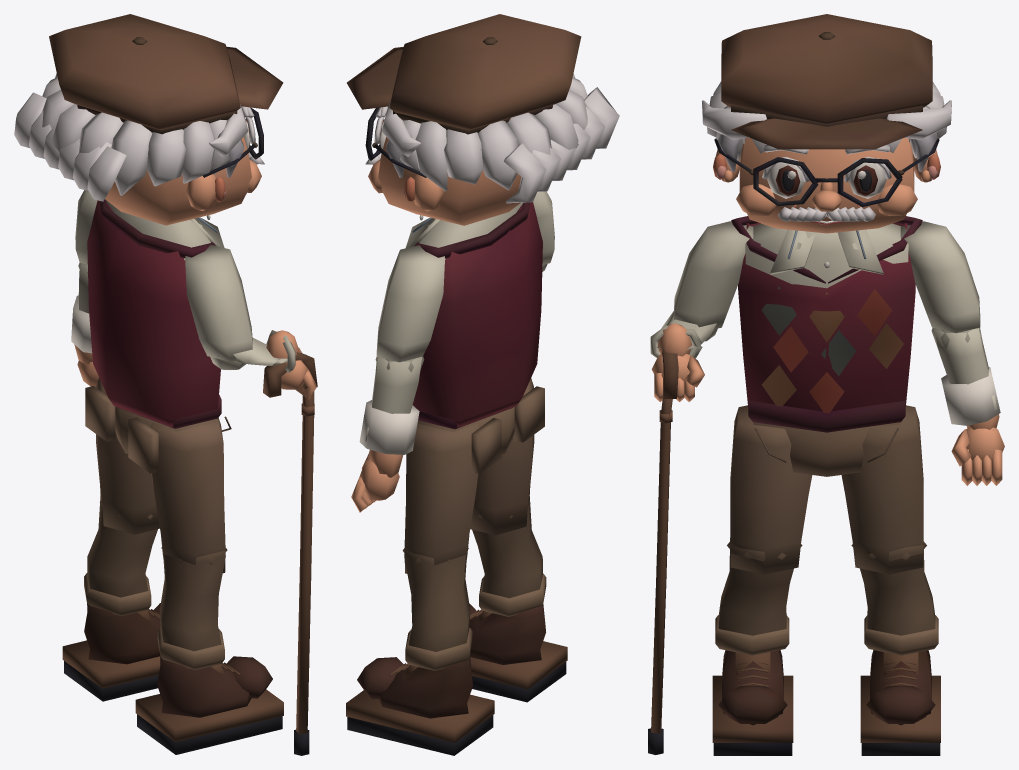
File: npc.civilian-elderly.aftermath.lod1.glb
3 views of the same model, side by side, from view 1: azimuth 30°, elevation 25°; view 2: azimuth 150°, elevation 25°; view 3: azimuth 270°, elevation 25° (orthographic).
Parts seen in each view (by area): view 1: head, torso, footR, legR, footL, handR, shinR, armR, shinL, legL, hip, foreArmR (+3 smaller); view 2: head, torso, footL, legL, footR, shinL, armL, shinR, foreArmL, legR, hip, handL (+1 smaller); view 3: head, torso, legR, legL, footR, footL, handR, shinL, shinR, armL, armR, foreArmL (+3 smaller).
Part boxes in pixels (box(x1,y1,x2,y2)): head: box(14, 14, 283, 225); torso: box(87, 199, 224, 428); footR: box(135, 655, 283, 754); legR: box(150, 418, 225, 573); footL: box(62, 603, 160, 701); handR: box(263, 330, 317, 755); shinR: box(157, 547, 227, 670); armR: box(185, 245, 252, 361); shinL: box(84, 495, 157, 616); legL: box(96, 377, 159, 534); hip: box(85, 386, 231, 473); foreArmR: box(210, 330, 295, 372); head: box(347, 14, 619, 225); torso: box(405, 202, 542, 429); footL: box(346, 656, 494, 755); legL: box(404, 423, 479, 573); footR: box(469, 603, 567, 702); shinL: box(402, 547, 472, 670); armL: box(376, 245, 444, 362); shinR: box(472, 496, 546, 616); foreArmL: box(359, 356, 424, 454); legR: box(470, 378, 534, 535); hip: box(417, 386, 544, 473); handL: box(351, 449, 403, 512); head: box(702, 14, 951, 233); torso: box(731, 216, 922, 432); legR: box(730, 405, 812, 574); legL: box(841, 405, 923, 574); footR: box(712, 650, 793, 755); footL: box(860, 650, 940, 755); handR: box(648, 323, 704, 754); shinL: box(851, 541, 938, 655); shinR: box(715, 538, 802, 655); armL: box(900, 221, 980, 333); armR: box(674, 221, 753, 329); foreArmL: box(931, 327, 1000, 425).
Bounding box in the file's own units: 0.5679 × 1.78 × 0.847.
